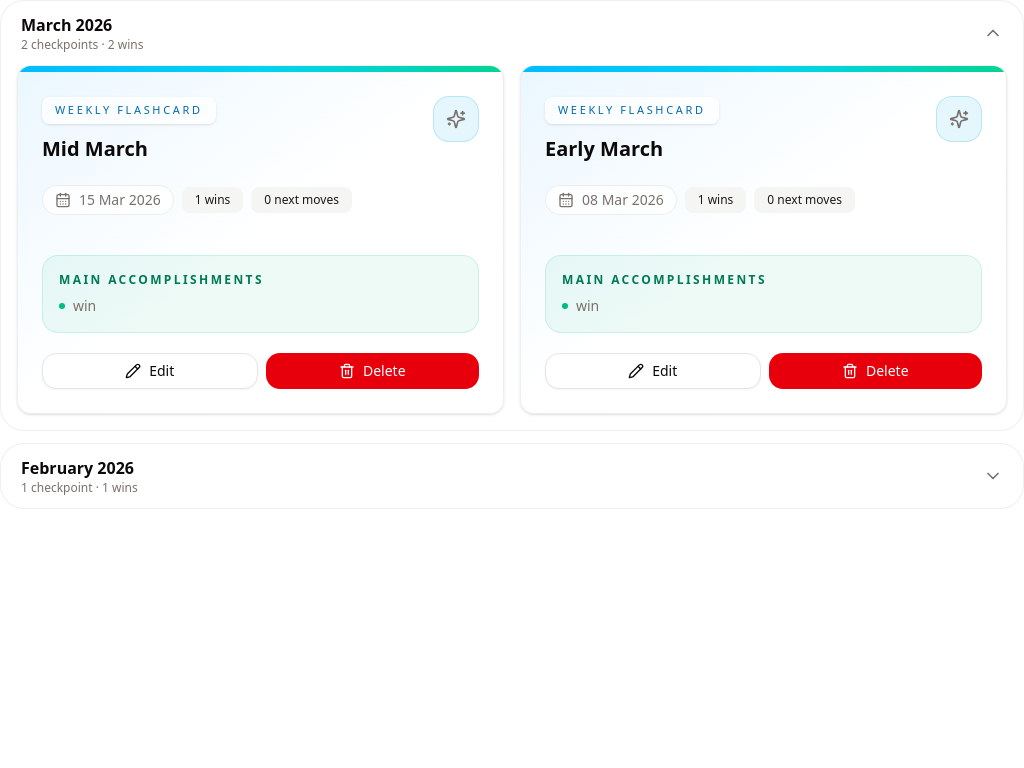
NotesTimelineView › toggles a month open and closed
Step 1. Click the button "February 2026 1 checkpoint · 1 wins" → [77, 468], box [1,444,1023,508]
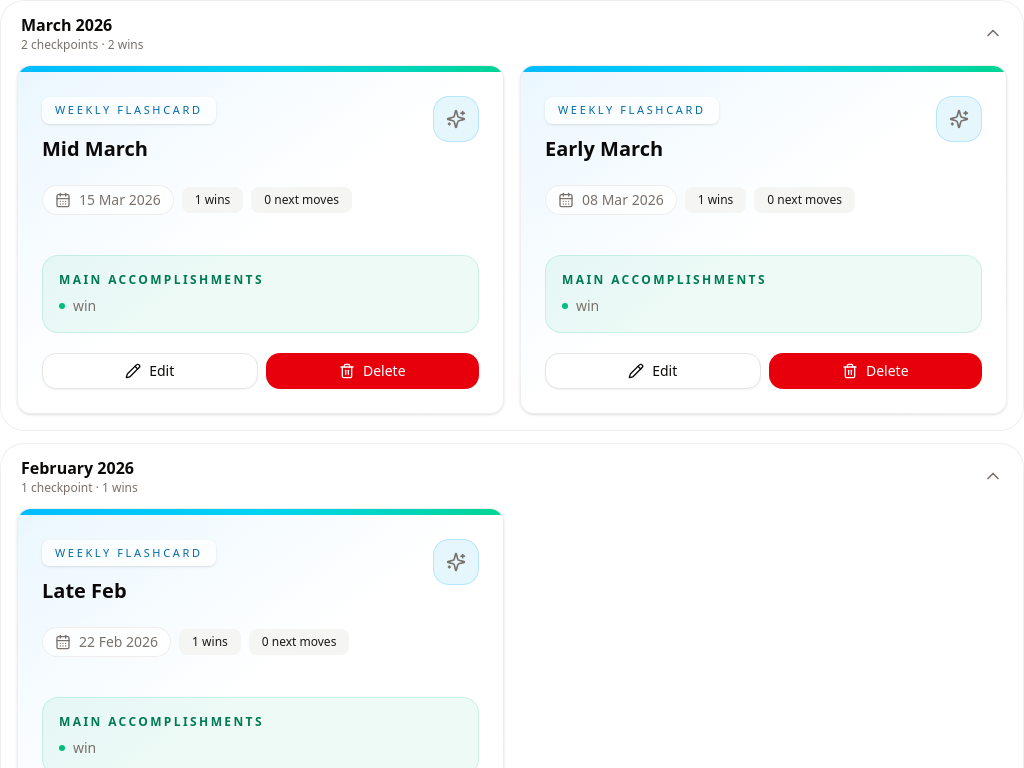
Now the text "Late Feb" is shown, box [42,577,126,604]
Step 2. Click the button "March 2026 2 checkpoints · 2 wins" → [67, 25], box [1,1,1023,65]
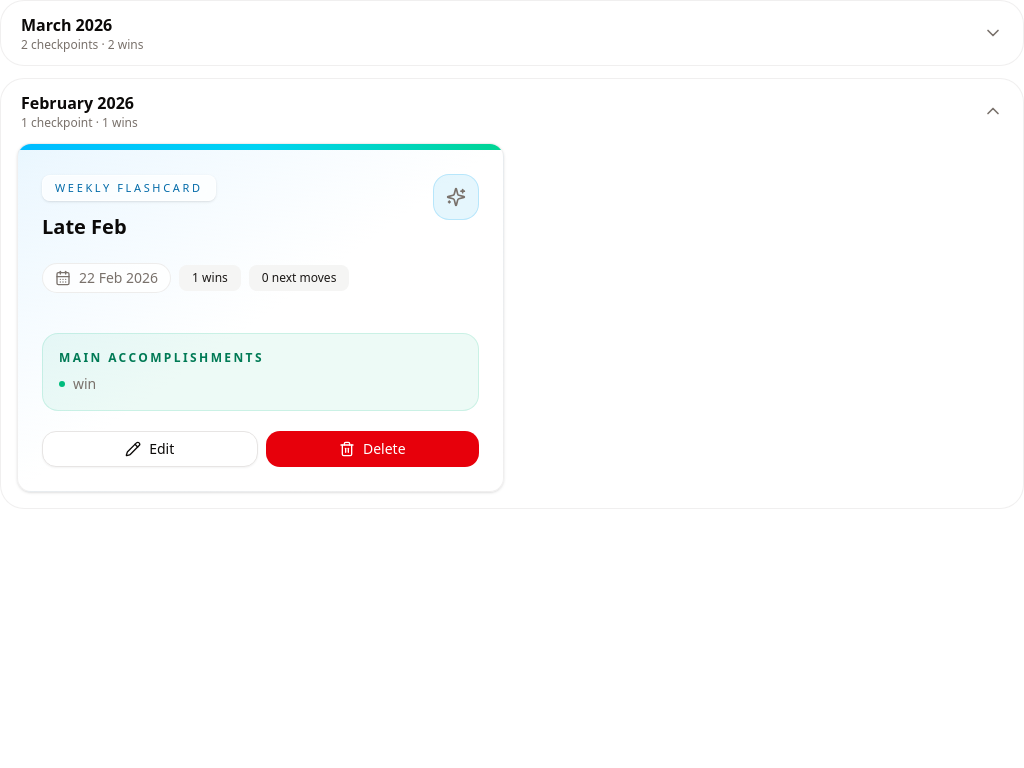
Now the text "Mid March" is gone
